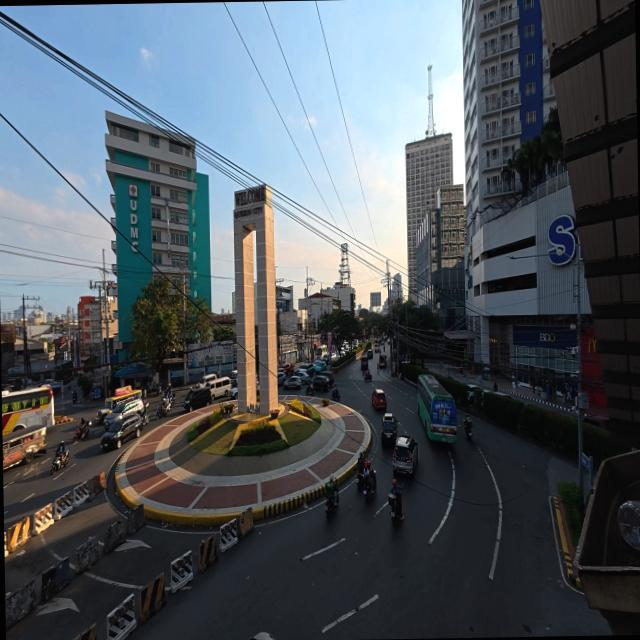Jeepneys: (2, 426, 46, 469), (95, 388, 142, 424)
bus: (418, 375, 457, 443), (2, 386, 54, 435), (315, 345, 327, 360)
car: (102, 414, 142, 448), (104, 399, 144, 428), (393, 436, 418, 475), (183, 386, 212, 412), (381, 413, 398, 445), (583, 416, 609, 430), (372, 389, 386, 409), (314, 375, 329, 392), (284, 376, 302, 389), (295, 364, 314, 376), (318, 371, 334, 385), (294, 371, 311, 384), (314, 360, 326, 372), (277, 372, 287, 386), (280, 364, 292, 375), (229, 385, 237, 399), (321, 353, 330, 363), (330, 351, 337, 361), (366, 348, 373, 358), (277, 367, 285, 375), (339, 347, 345, 356), (374, 346, 380, 354)
motorcycle: (389, 493, 402, 525), (73, 422, 91, 444), (51, 454, 68, 474), (363, 477, 375, 502), (325, 498, 338, 518), (148, 383, 162, 396), (157, 401, 167, 419), (356, 468, 364, 490), (464, 418, 472, 439), (142, 403, 149, 426), (168, 392, 175, 408), (306, 384, 314, 396), (332, 388, 340, 400), (364, 372, 372, 382), (73, 391, 77, 404)
vans: (207, 377, 232, 399), (197, 373, 217, 388)
